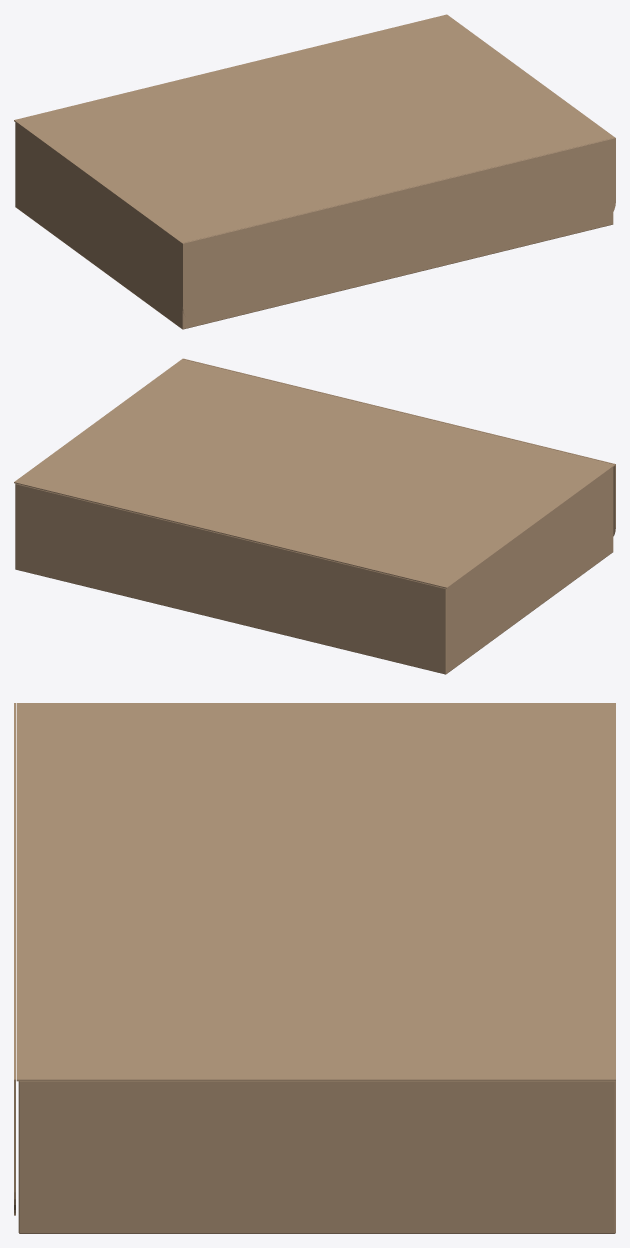
File: flower-box-downsized-premium-closed.glb
The picture shows the model from 3 angles, top to bottom: view 1: azimuth 30°, elevation 25°; view 2: azimuth 150°, elevation 25°; view 3: azimuth 270°, elevation 25°; orthographic projection. The views are drawn at different scales.
Visible parts, largest first — view 1: dgift_lid, dgift_front, dgift_tray; view 2: dgift_lid, dgift_tray, dgift_front; view 3: dgift_lid, dgift_tray, dgift_ear1, dgift_front, dgift_ear-1.
Boxes of the visible parts, left/top/right/bottom form: dgift_lid: left=14, top=14, right=614, bottom=243; dgift_front: left=182, top=137, right=615, bottom=323; dgift_tray: left=15, top=122, right=613, bottom=329; dgift_lid: left=14, top=359, right=615, bottom=588; dgift_tray: left=15, top=467, right=613, bottom=674; dgift_front: left=182, top=358, right=615, bottom=536; dgift_lid: left=16, top=703, right=615, bottom=1081; dgift_tray: left=18, top=1081, right=615, bottom=1233; dgift_ear1: left=64, top=1075, right=579, bottom=1076; dgift_front: left=14, top=703, right=15, bottom=1215; dgift_ear-1: left=64, top=706, right=579, bottom=707.
Bounding box in the file's own units: 0.1969 × 0.038 × 0.133.
